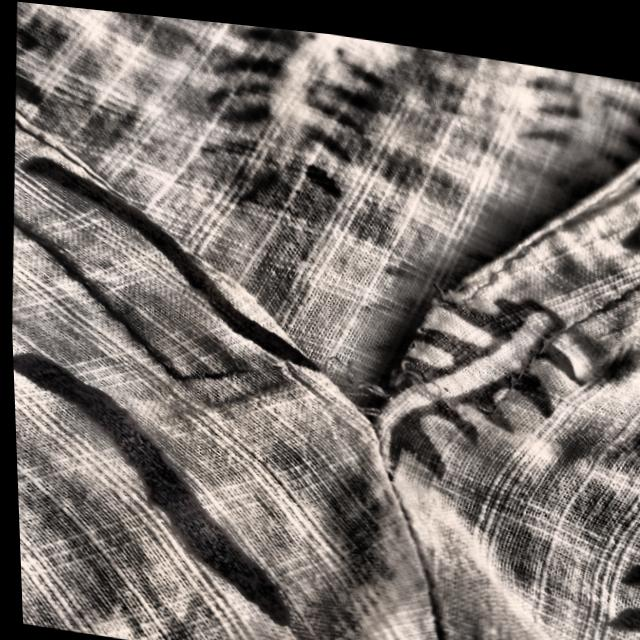Stitch: (251, 311, 543, 443)
